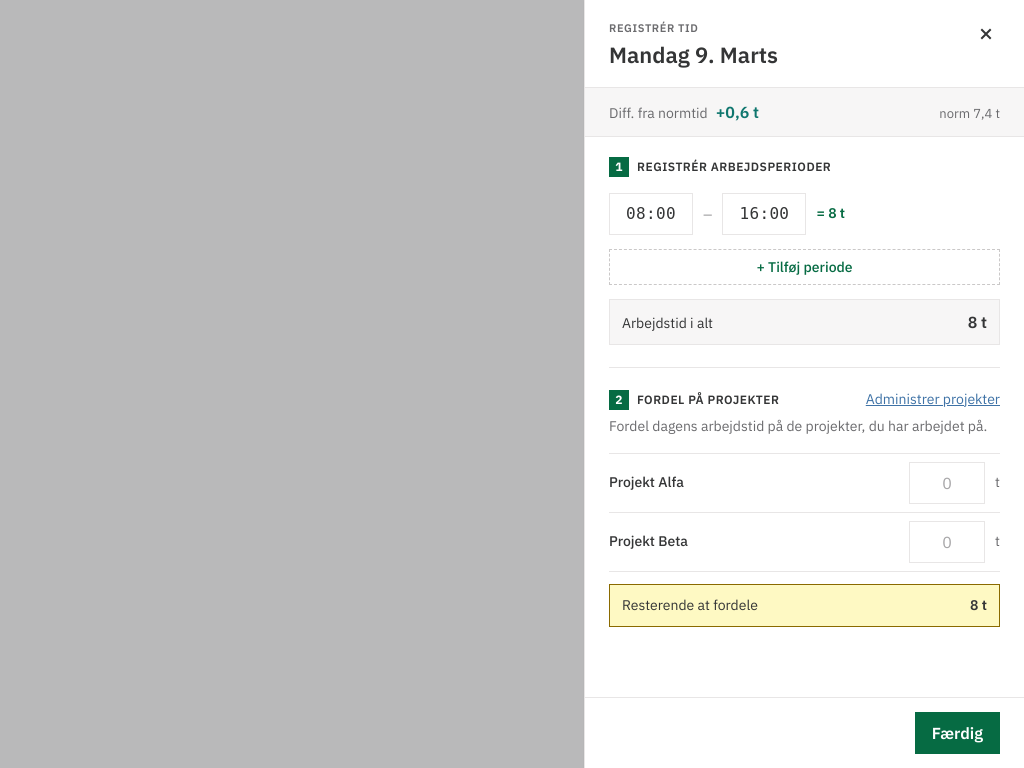
Scenario: SkemaDayPanel — step 2: Fordel på projekter (R11 + R5) › S145 TASK-14516: blur clears the negative-allocation flag
The image size is (1024, 768).
Type "-3,5" into the field named "Projekt Alfa".
click(947, 482); type("-3,5")  # box [909,462,985,504]
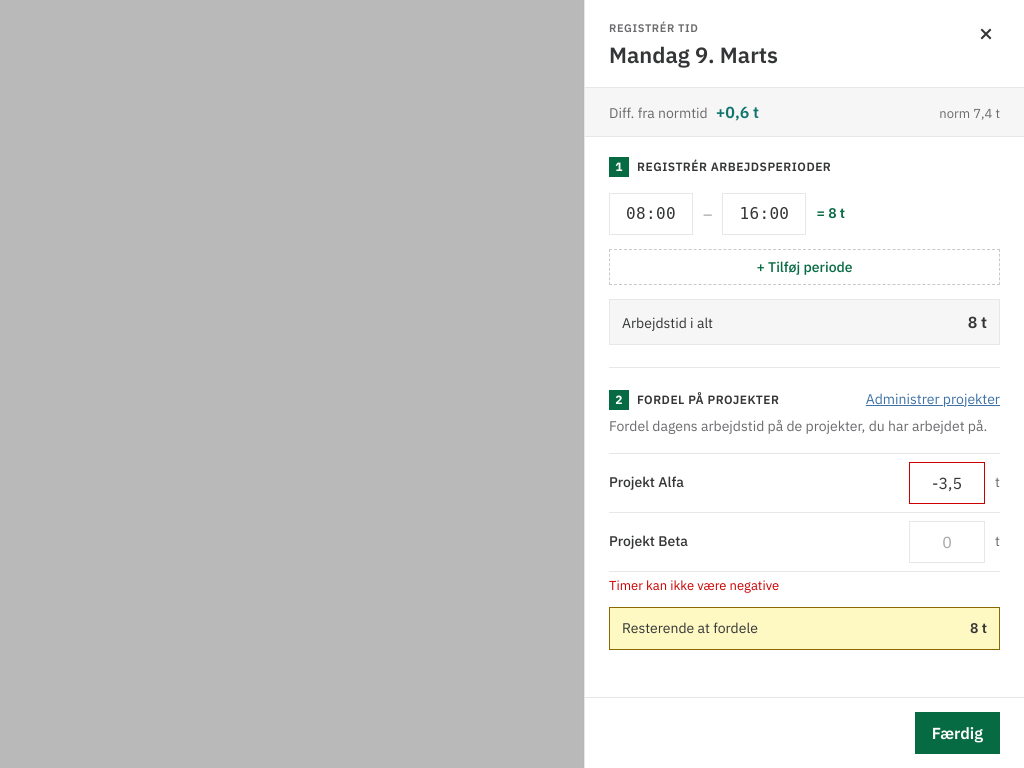
Expected: the message "Timer kan ikke være negative" is shown, [609,576,779,594]
Leave the field named "Projekt Alfa", box [909,462,985,504]
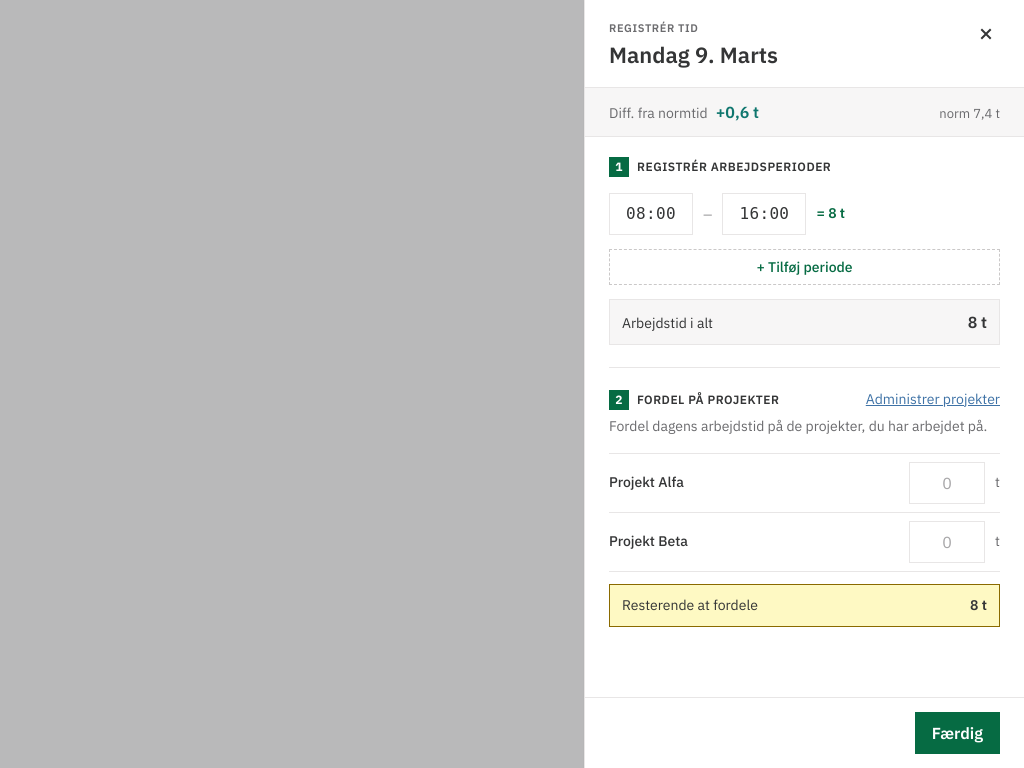
Expected: the message "Timer kan ikke være negative" is gone
